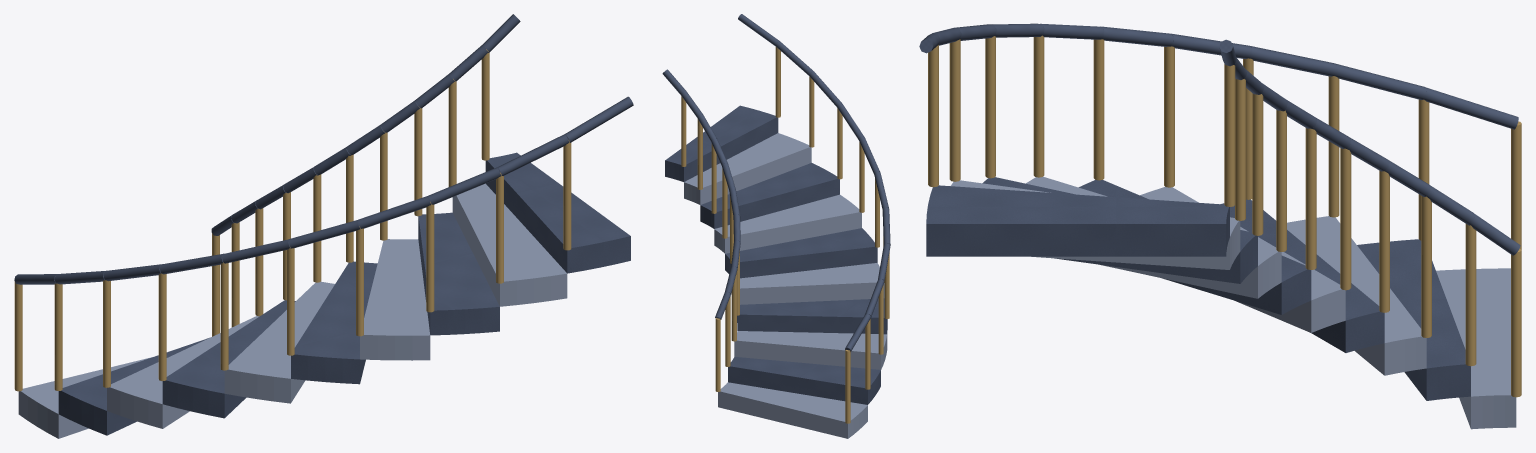
File: stairs-curved.glb
The picture shows the model from 3 angles, left to right: view 1: azimuth 30°, elevation 25°; view 2: azimuth 150°, elevation 25°; view 3: azimuth 270°, elevation 25°; orthographic projection. The views are drawn at different scales.
Visible parts, largest first — view 1: stairs-curved_stone, stairs-curved_edge, stairs-curved_gold; view 2: stairs-curved_stone, stairs-curved_edge, stairs-curved_gold; view 3: stairs-curved_stone, stairs-curved_gold, stairs-curved_edge.
Part boxes in pixels (x1,y1,x2,y2): stairs-curved_stone: (14,14,633,435); stairs-curved_edge: (18,183,567,438); stairs-curved_gold: (14,49,571,391); stairs-curved_stone: (662,14,890,404); stairs-curved_edge: (684,133,887,438); stairs-curved_gold: (681,47,889,423); stairs-curved_stone: (919,23,1520,400); stairs-curved_gold: (928,35,1521,397); stairs-curved_edge: (950,176,1516,429).
Size of the model in its own units: 3.01 by 2.81 by 3.01.
3 materials, 1 textured.
